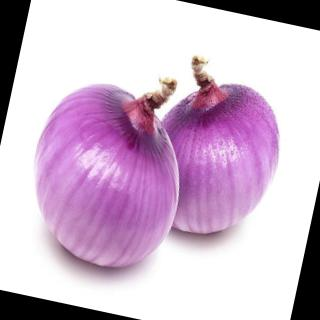Bawang Merah: (14, 53, 206, 282)
